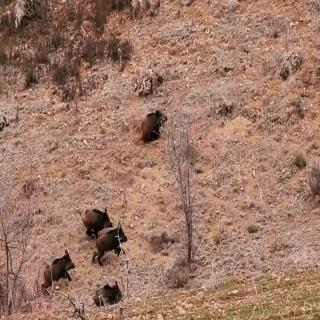Pig: (36, 246, 78, 293), (137, 95, 172, 145), (88, 272, 127, 313), (71, 199, 114, 235), (92, 221, 126, 262)
